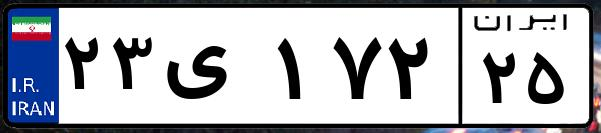1: (270, 28, 330, 110)
2: (385, 28, 445, 110), (57, 26, 110, 100), (475, 38, 525, 113)
3: (110, 28, 158, 98)
5: (525, 38, 570, 115)
7: (330, 28, 385, 110)
ی: (158, 20, 270, 120)
